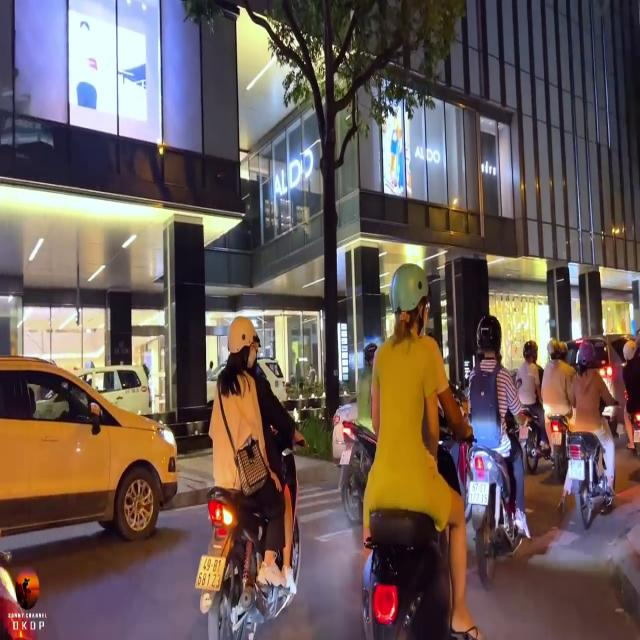bien_trang: (193, 554, 226, 592)
